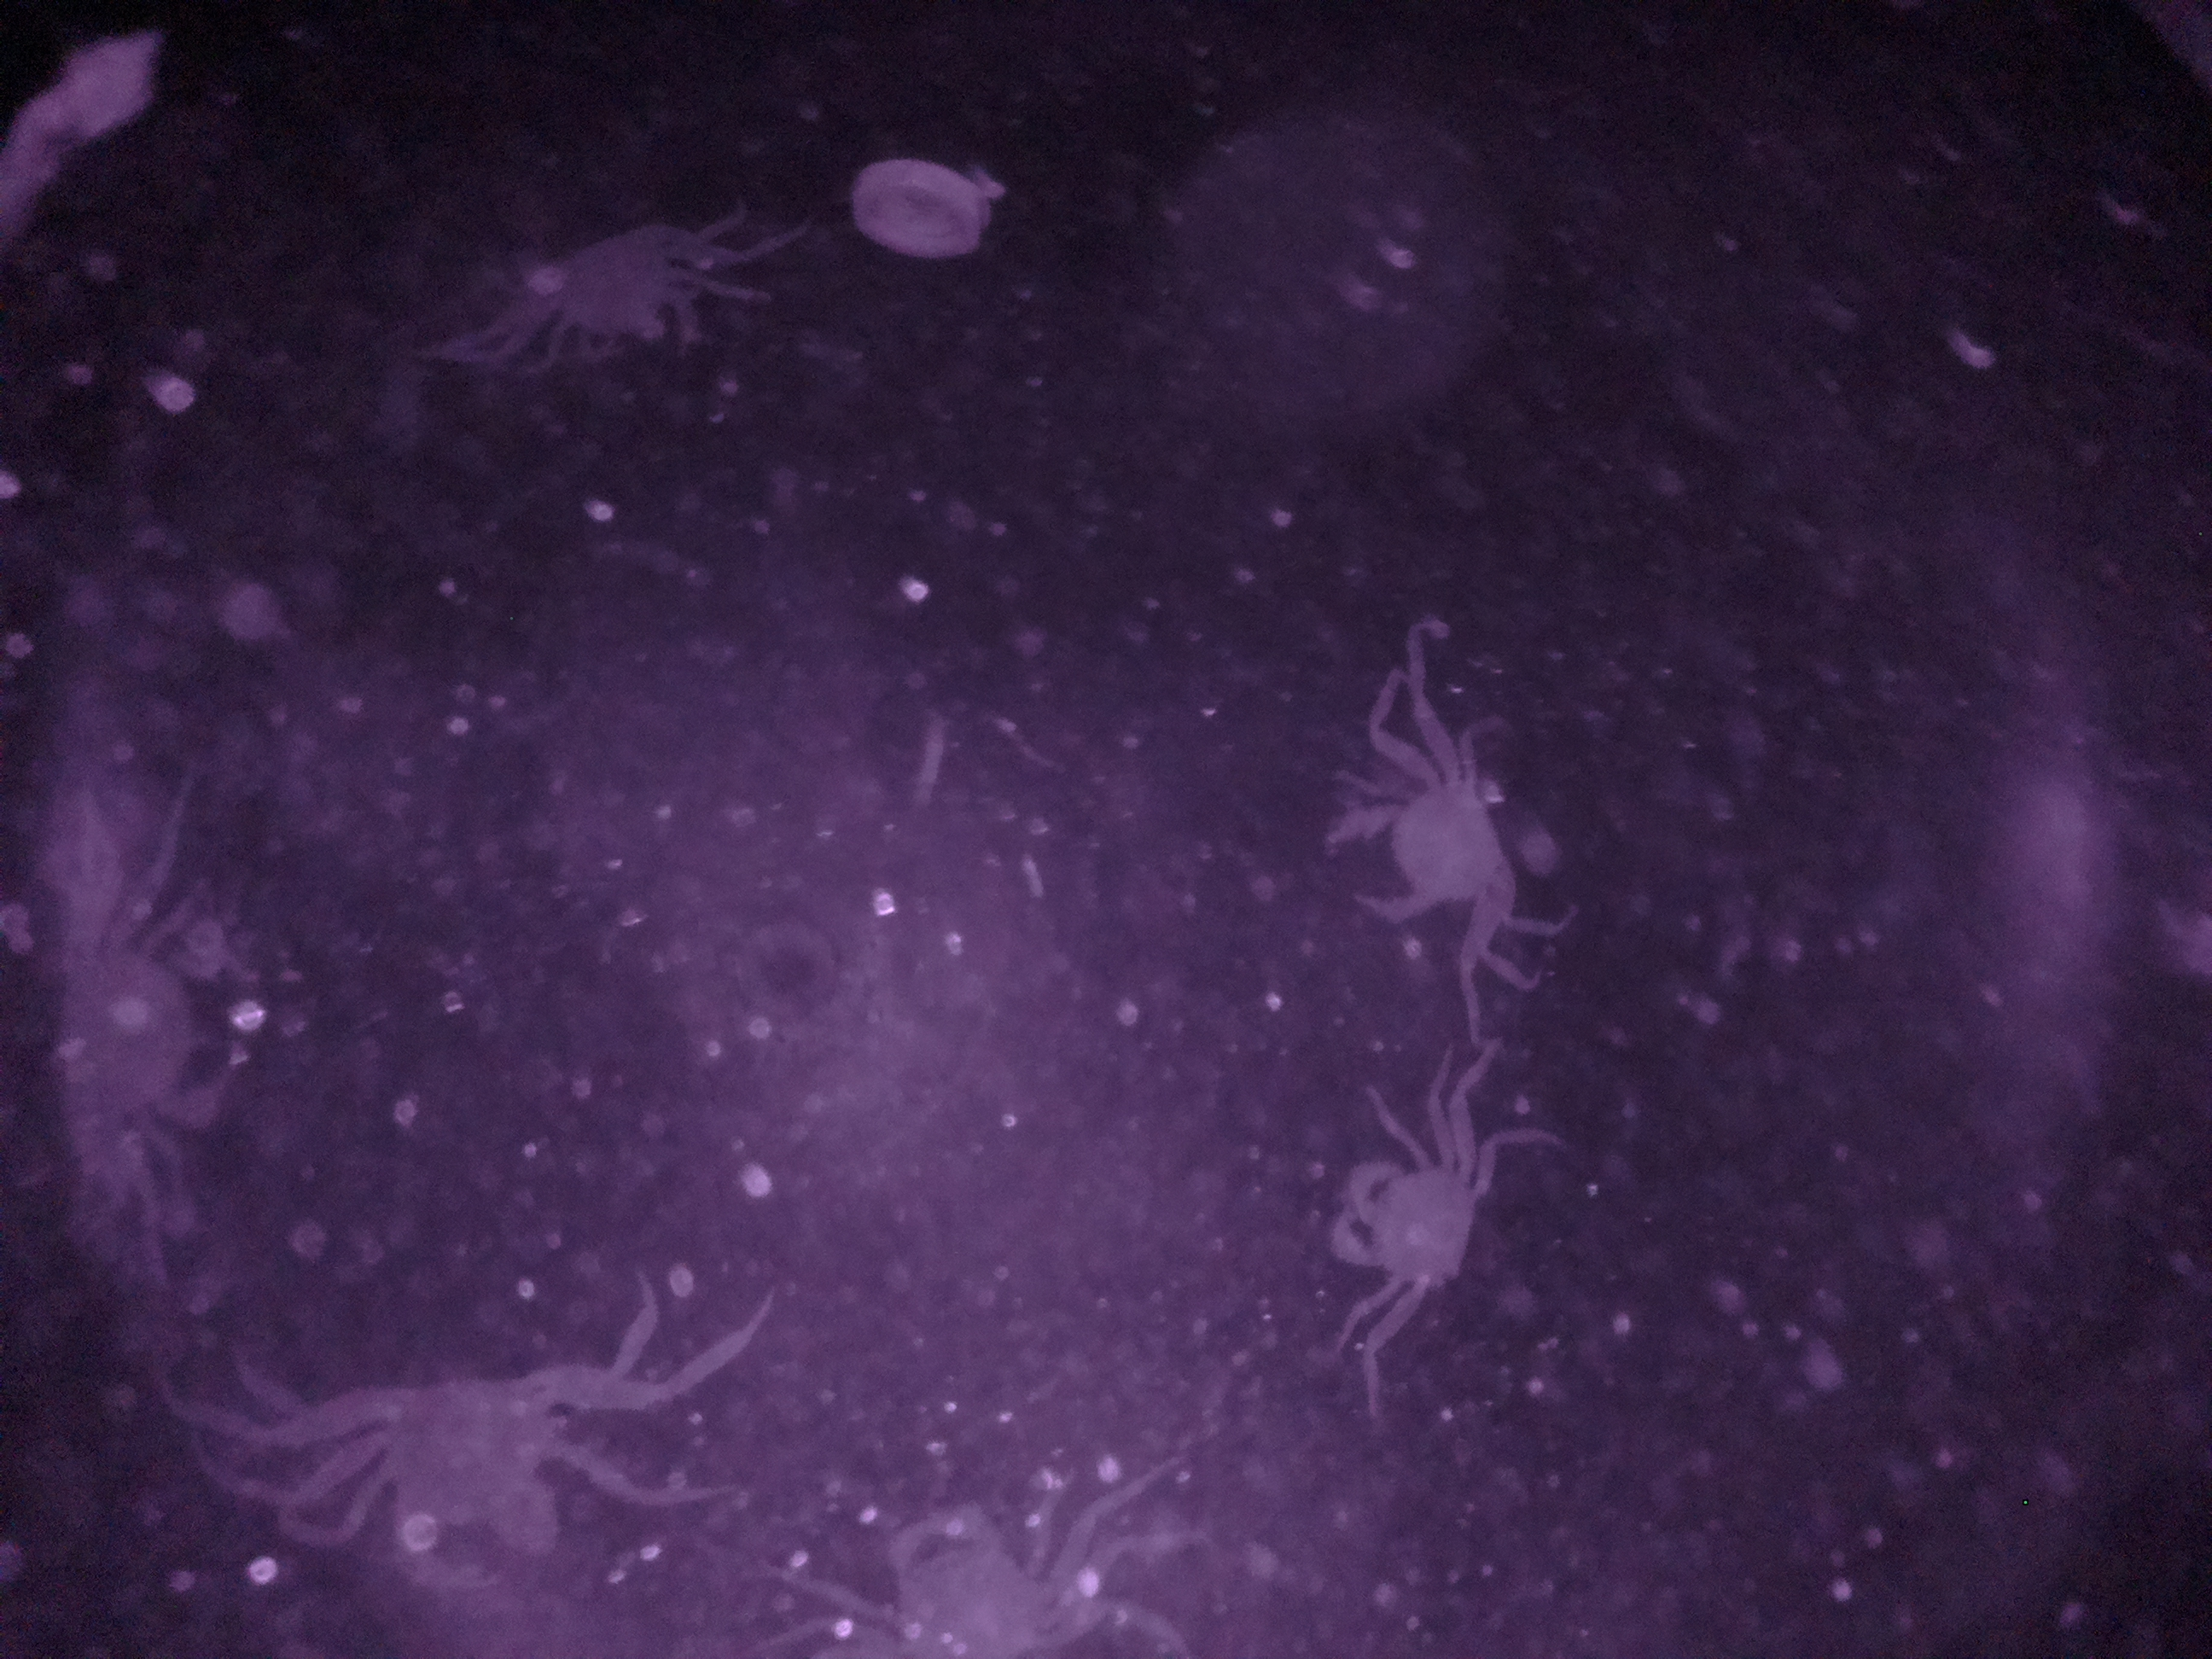Crab: (1308, 737, 1534, 965), (1305, 1098, 1501, 1351)
